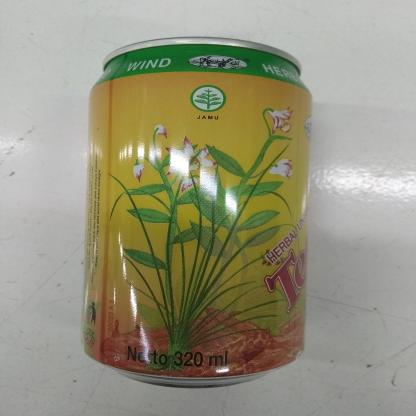mouse: (79, 30, 317, 392)
